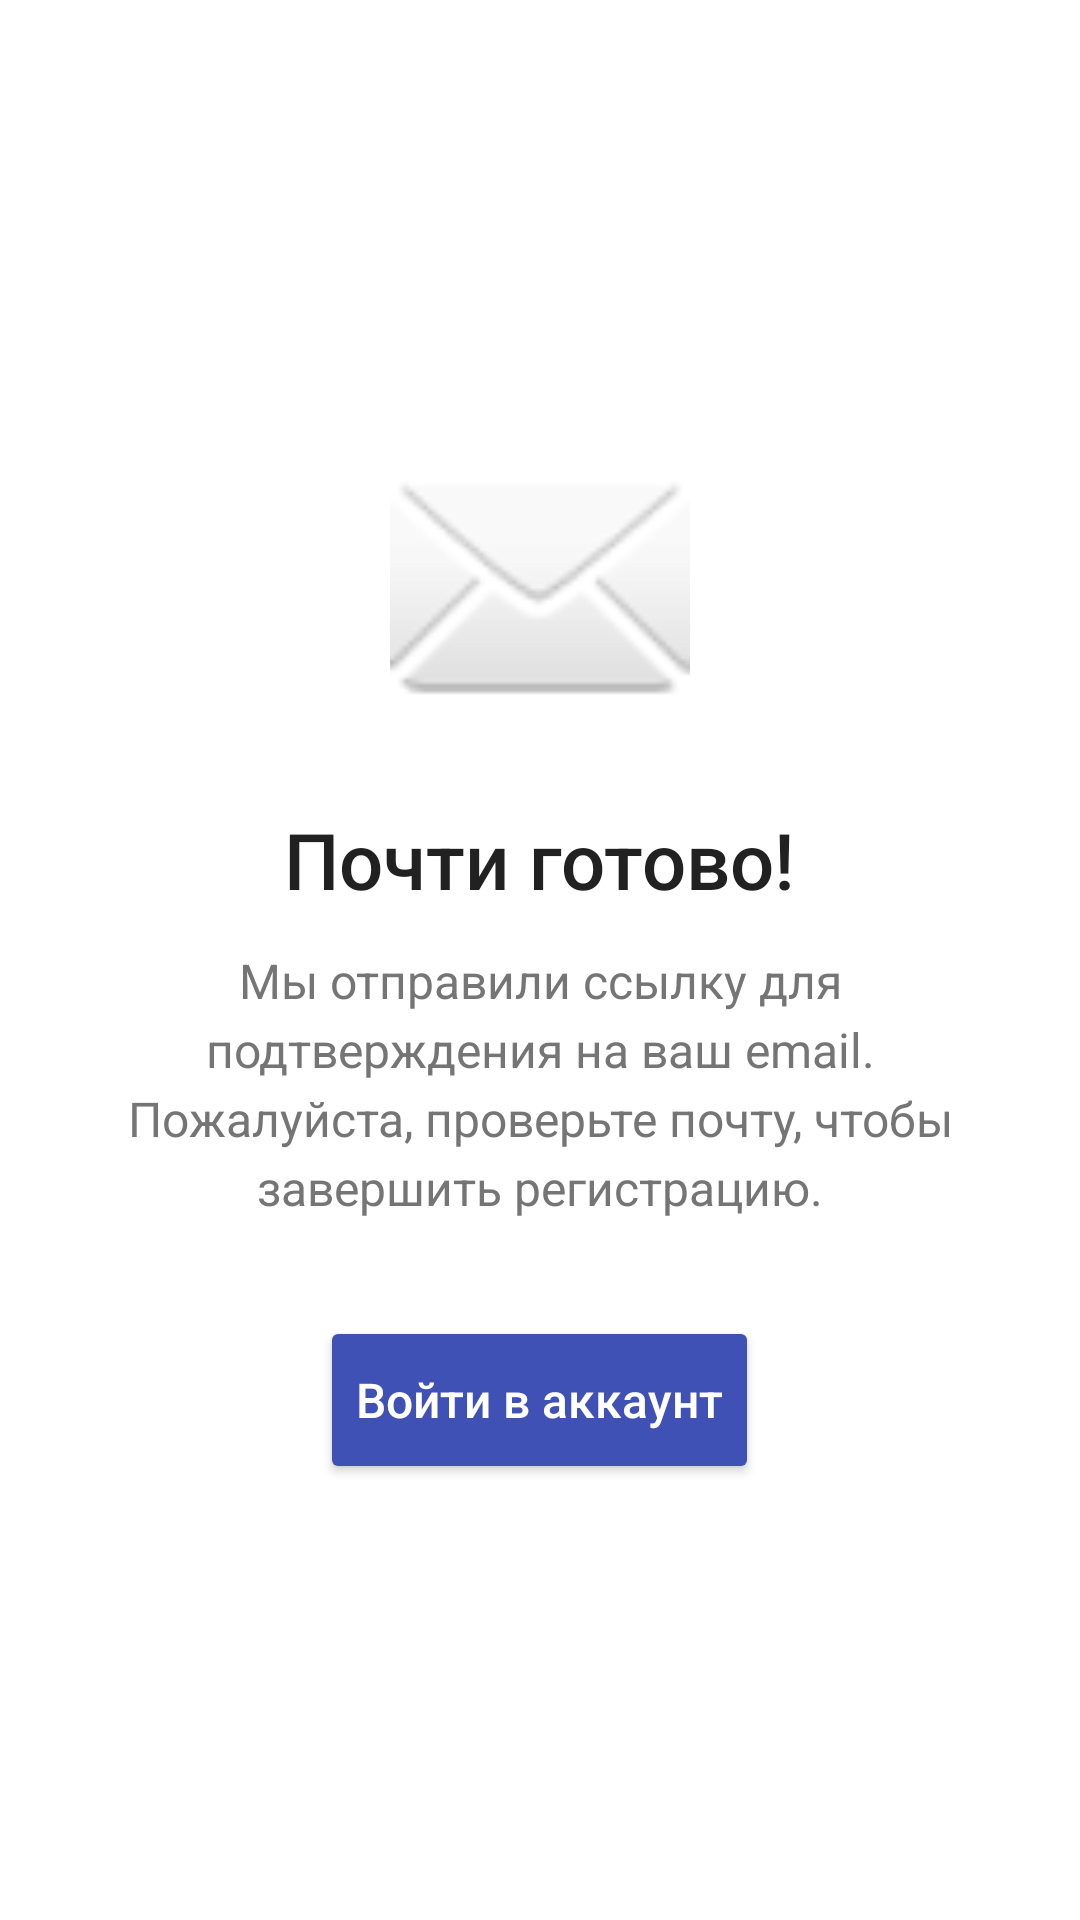

Icons on this 1080px x 1920px Android screen, each with its box as detection(x1, y1, x2, y2):
email: detection(390, 488, 690, 693)
